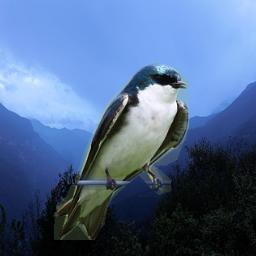Swallow: (53, 62, 189, 240)
